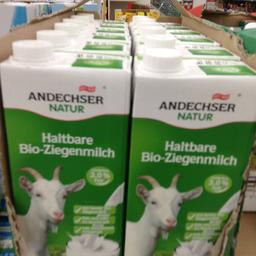milk: (1, 36, 126, 254), (128, 46, 250, 255)
